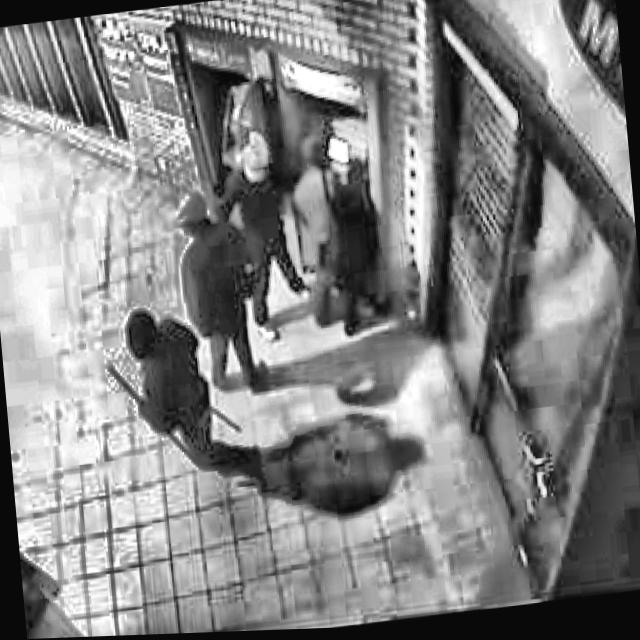burglary: (159, 53, 396, 407), (98, 298, 218, 488)
